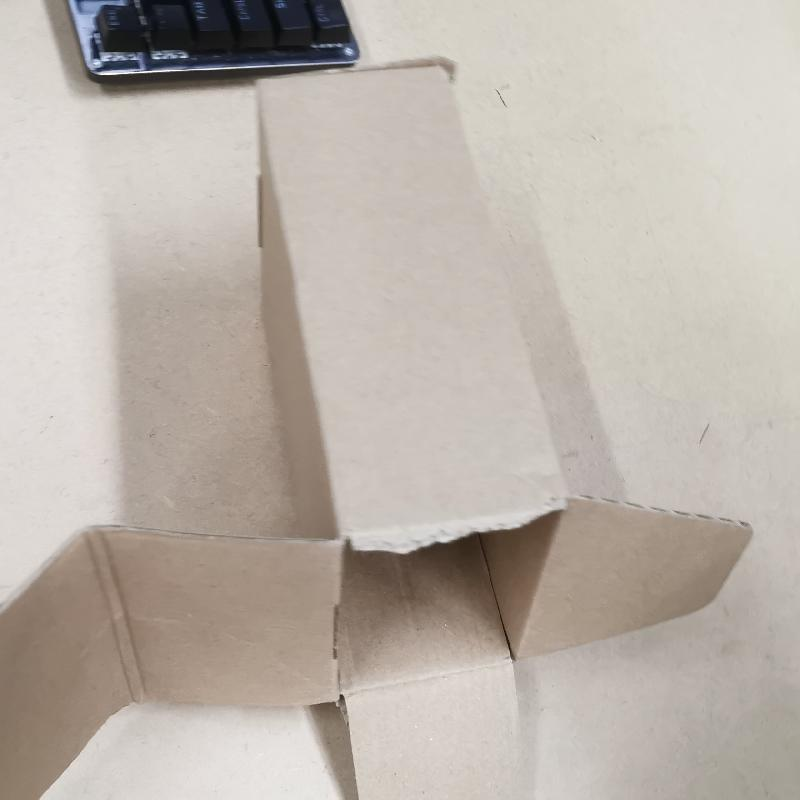boxes: (66, 63, 760, 800)
